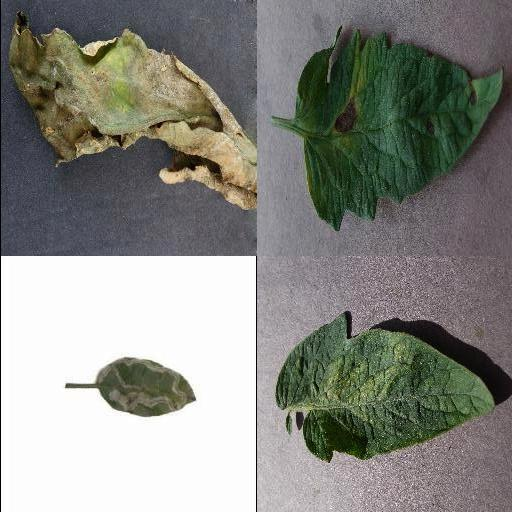Early Blight: (295, 29, 505, 232)
Late Blight: (9, 14, 256, 210)
Leaf Miner: (95, 359, 196, 417)
Spider Mites: (274, 312, 494, 464)
